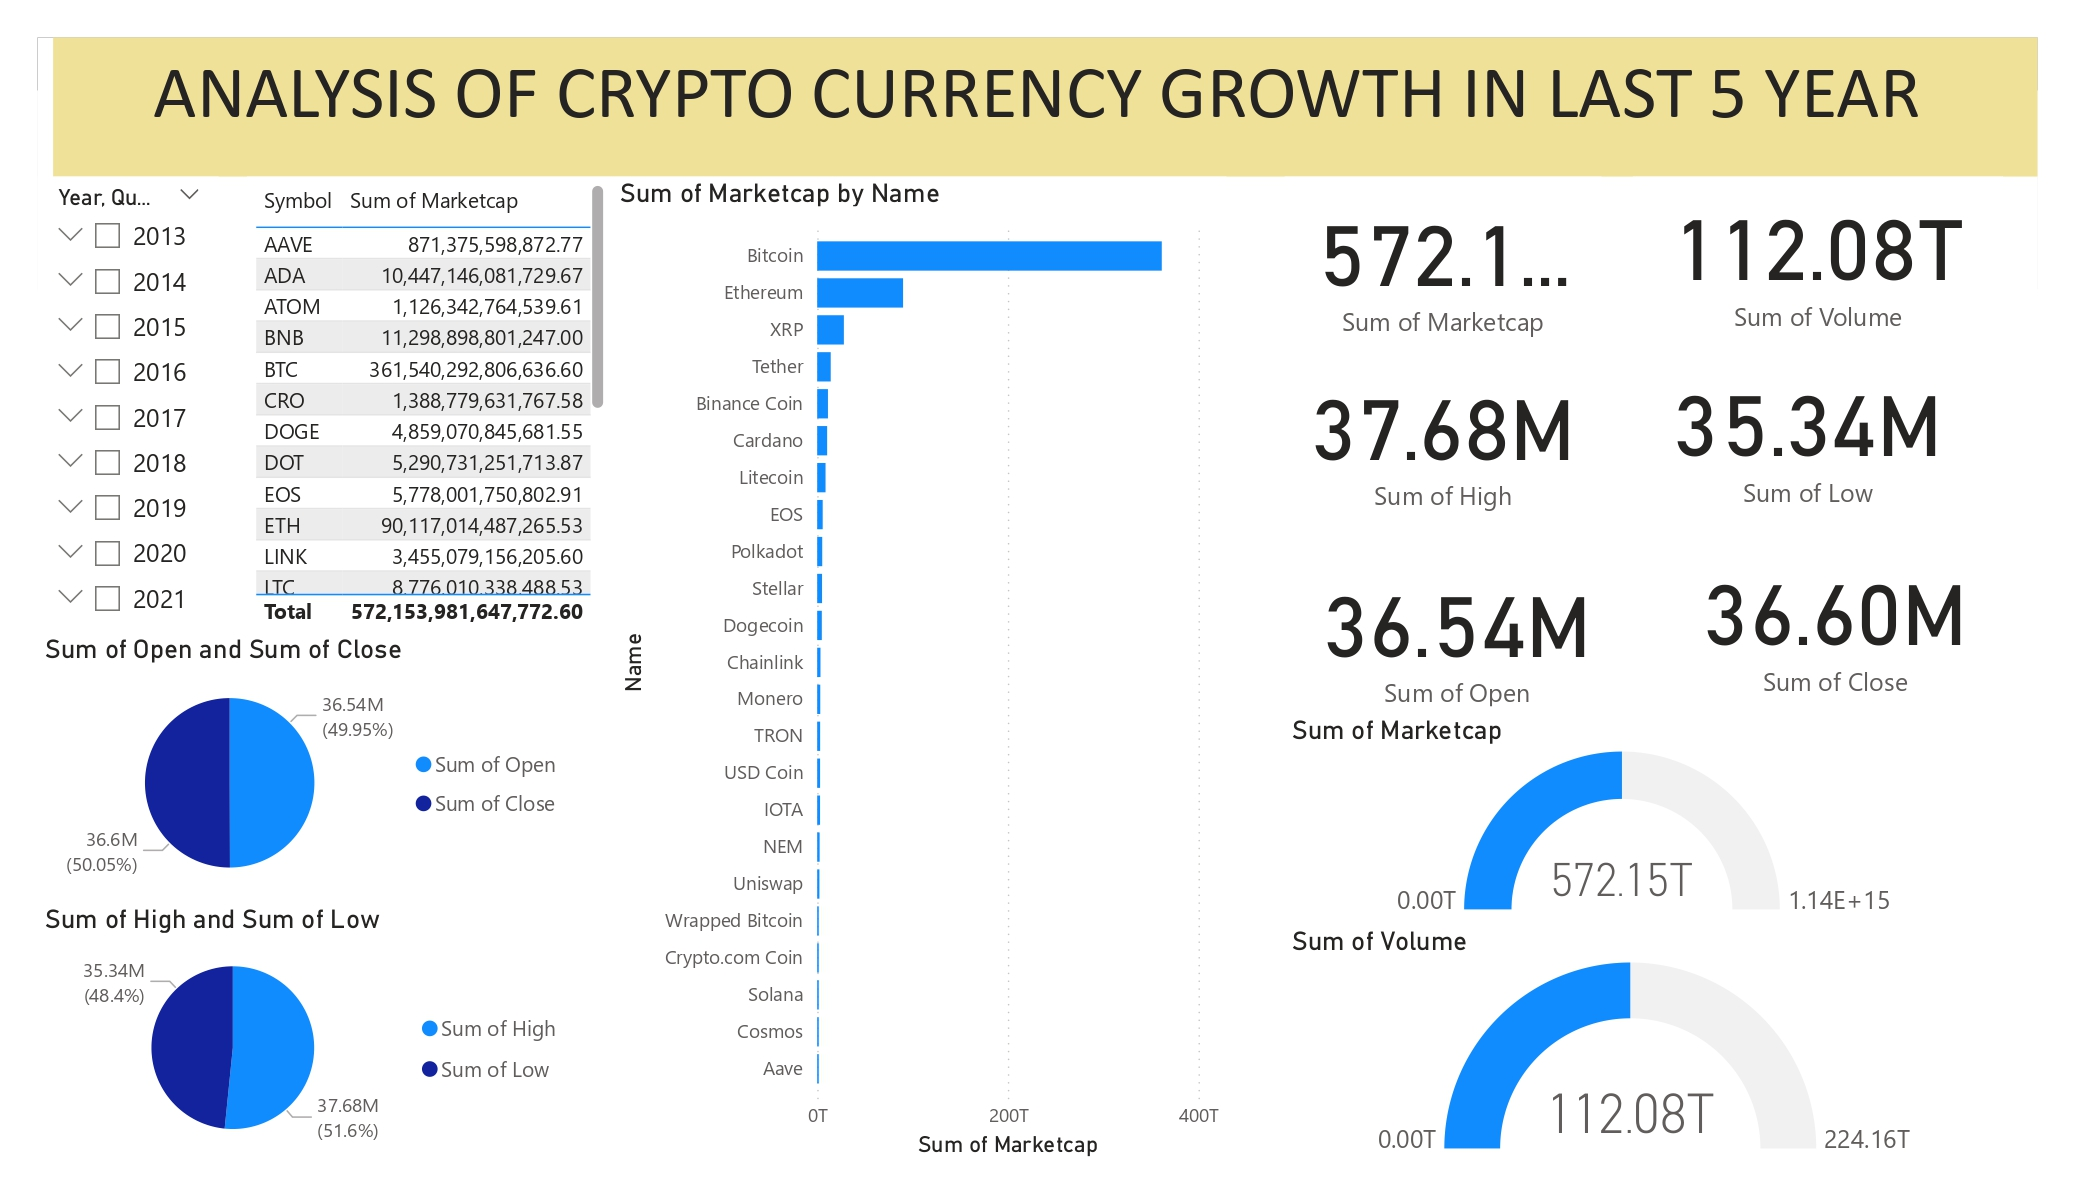

What the dashboard file says about the page in this screenshot:
{"tool":"powerbi","page":{"name":"Page 1","canvas":[1280,720],"ordinal":0},"visuals":[{"type":"textbox","box":[10.1,0,1269.9,89],"z":0},{"type":"slicer","fields":{"Values":["CryptoData.Date.Variation.Date Hierarchy.Year","CryptoData.Date.Variation.Date Hierarchy.Quarter","CryptoData.Date.Variation.Date Hierarchy.Month","CryptoData.Date.Variation.Date Hierarchy.Day","CryptoData.Marketcap"]},"box":[0,89,115.9,294],"z":1000},{"type":"tableEx","fields":{"Values":["CryptoData.Symbol","Sum(CryptoData.Marketcap)"]},"box":[134.4,89,233.5,292.3],"z":2000},{"type":"card","fields":{"Values":["Sum(CryptoData.Volume)"]},"box":[1021.3,89,236.9,102.5],"z":3000},{"type":"pieChart","fields":{"Y":["Sum(CryptoData.Open)","Sum(CryptoData.Close)"]},"box":[0,381.3,346,173],"z":4000},{"type":"pieChart","fields":{"Y":["Sum(CryptoData.High)","Sum(CryptoData.Low)"]},"box":[0,554,346,166],"z":5000},{"type":"card","fields":{"Values":["Sum(CryptoData.Marketcap)"]},"box":[797.9,89,203.3,109.2],"z":6000},{"type":"card","fields":{"Values":["Sum(CryptoData.High)"]},"box":[797.9,198.2,203.3,114.2],"z":7000},{"type":"card","fields":{"Values":["Sum(CryptoData.Low)"]},"box":[1039.8,191.5,186.5,122.6],"z":8000},{"type":"card","fields":{"Values":["Sum(CryptoData.Open)"]},"box":[816.4,329.2,184.8,104.1],"z":9000},{"type":"card","fields":{"Values":["Sum(CryptoData.Close)"]},"box":[1021.3,314.1,258.7,119.3],"z":10000},{"type":"clusteredBarChart","fields":{"Y":["Sum(CryptoData.Marketcap)"],"Category":["CryptoData.Name"]},"box":[367.9,89,393.1,631.6],"z":11000},{"type":"gauge","fields":{"Y":["Sum(CryptoData.Marketcap)"]},"box":[797.9,433.4,460.3,134.4],"z":12000},{"type":"gauge","fields":{"Y":["Sum(CryptoData.Volume)"]},"box":[797.9,567.8,460.3,152.9],"z":13000}]}

Visuals, with their boxes in screenshot pixels (x1, y1, x2, y2):
textbox: locate(53, 38, 2038, 177)
slicer - CryptoData.Date.Variation.Date Hierarchy.Year x CryptoData.Date.Variation.Date Hierarchy.Quarter: locate(38, 177, 219, 636)
tableEx - CryptoData.Symbol x Sum(CryptoData.Marketcap): locate(248, 177, 612, 633)
card - Sum(CryptoData.Volume): locate(1633, 177, 2003, 337)
pieChart - Sum(CryptoData.Open) x Sum(CryptoData.Close): locate(38, 633, 578, 904)
pieChart - Sum(CryptoData.High) x Sum(CryptoData.Low): locate(38, 903, 578, 1162)
card - Sum(CryptoData.Marketcap): locate(1284, 177, 1602, 347)
card - Sum(CryptoData.High): locate(1284, 347, 1602, 526)
card - Sum(CryptoData.Low): locate(1662, 337, 1954, 528)
card - Sum(CryptoData.Open): locate(1313, 552, 1602, 715)
card - Sum(CryptoData.Close): locate(1633, 528, 2038, 715)
clusteredBarChart - Sum(CryptoData.Marketcap) x CryptoData.Name: locate(612, 177, 1227, 1162)
gauge - Sum(CryptoData.Marketcap): locate(1284, 715, 2003, 925)
gauge - Sum(CryptoData.Volume): locate(1284, 925, 2003, 1162)
